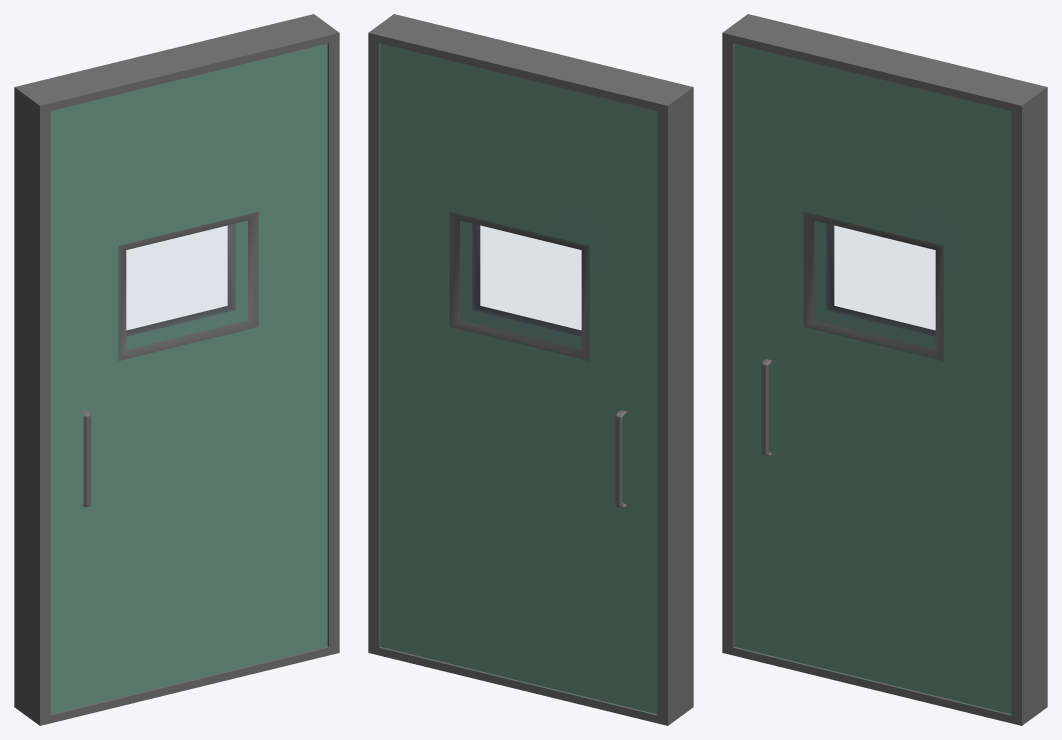
File: hospitalDoor_v1.fbx
The picture shows the model from 3 angles, left to right: view 1: azimuth 30°, elevation 25°; view 2: azimuth 150°, elevation 25°; view 3: azimuth 330°, elevation 25°; orthographic projection.
Visible parts, largest first — view 1: hospitalDoor_geo; view 2: hospitalDoor_geo; view 3: hospitalDoor_geo.
Boxes of the visible parts, bbox=[...] form: hospitalDoor_geo: bbox=[14, 14, 339, 725]; hospitalDoor_geo: bbox=[368, 14, 693, 725]; hospitalDoor_geo: bbox=[722, 14, 1047, 725].
Size of the model in its own units: 203 by 402 by 39.5.
